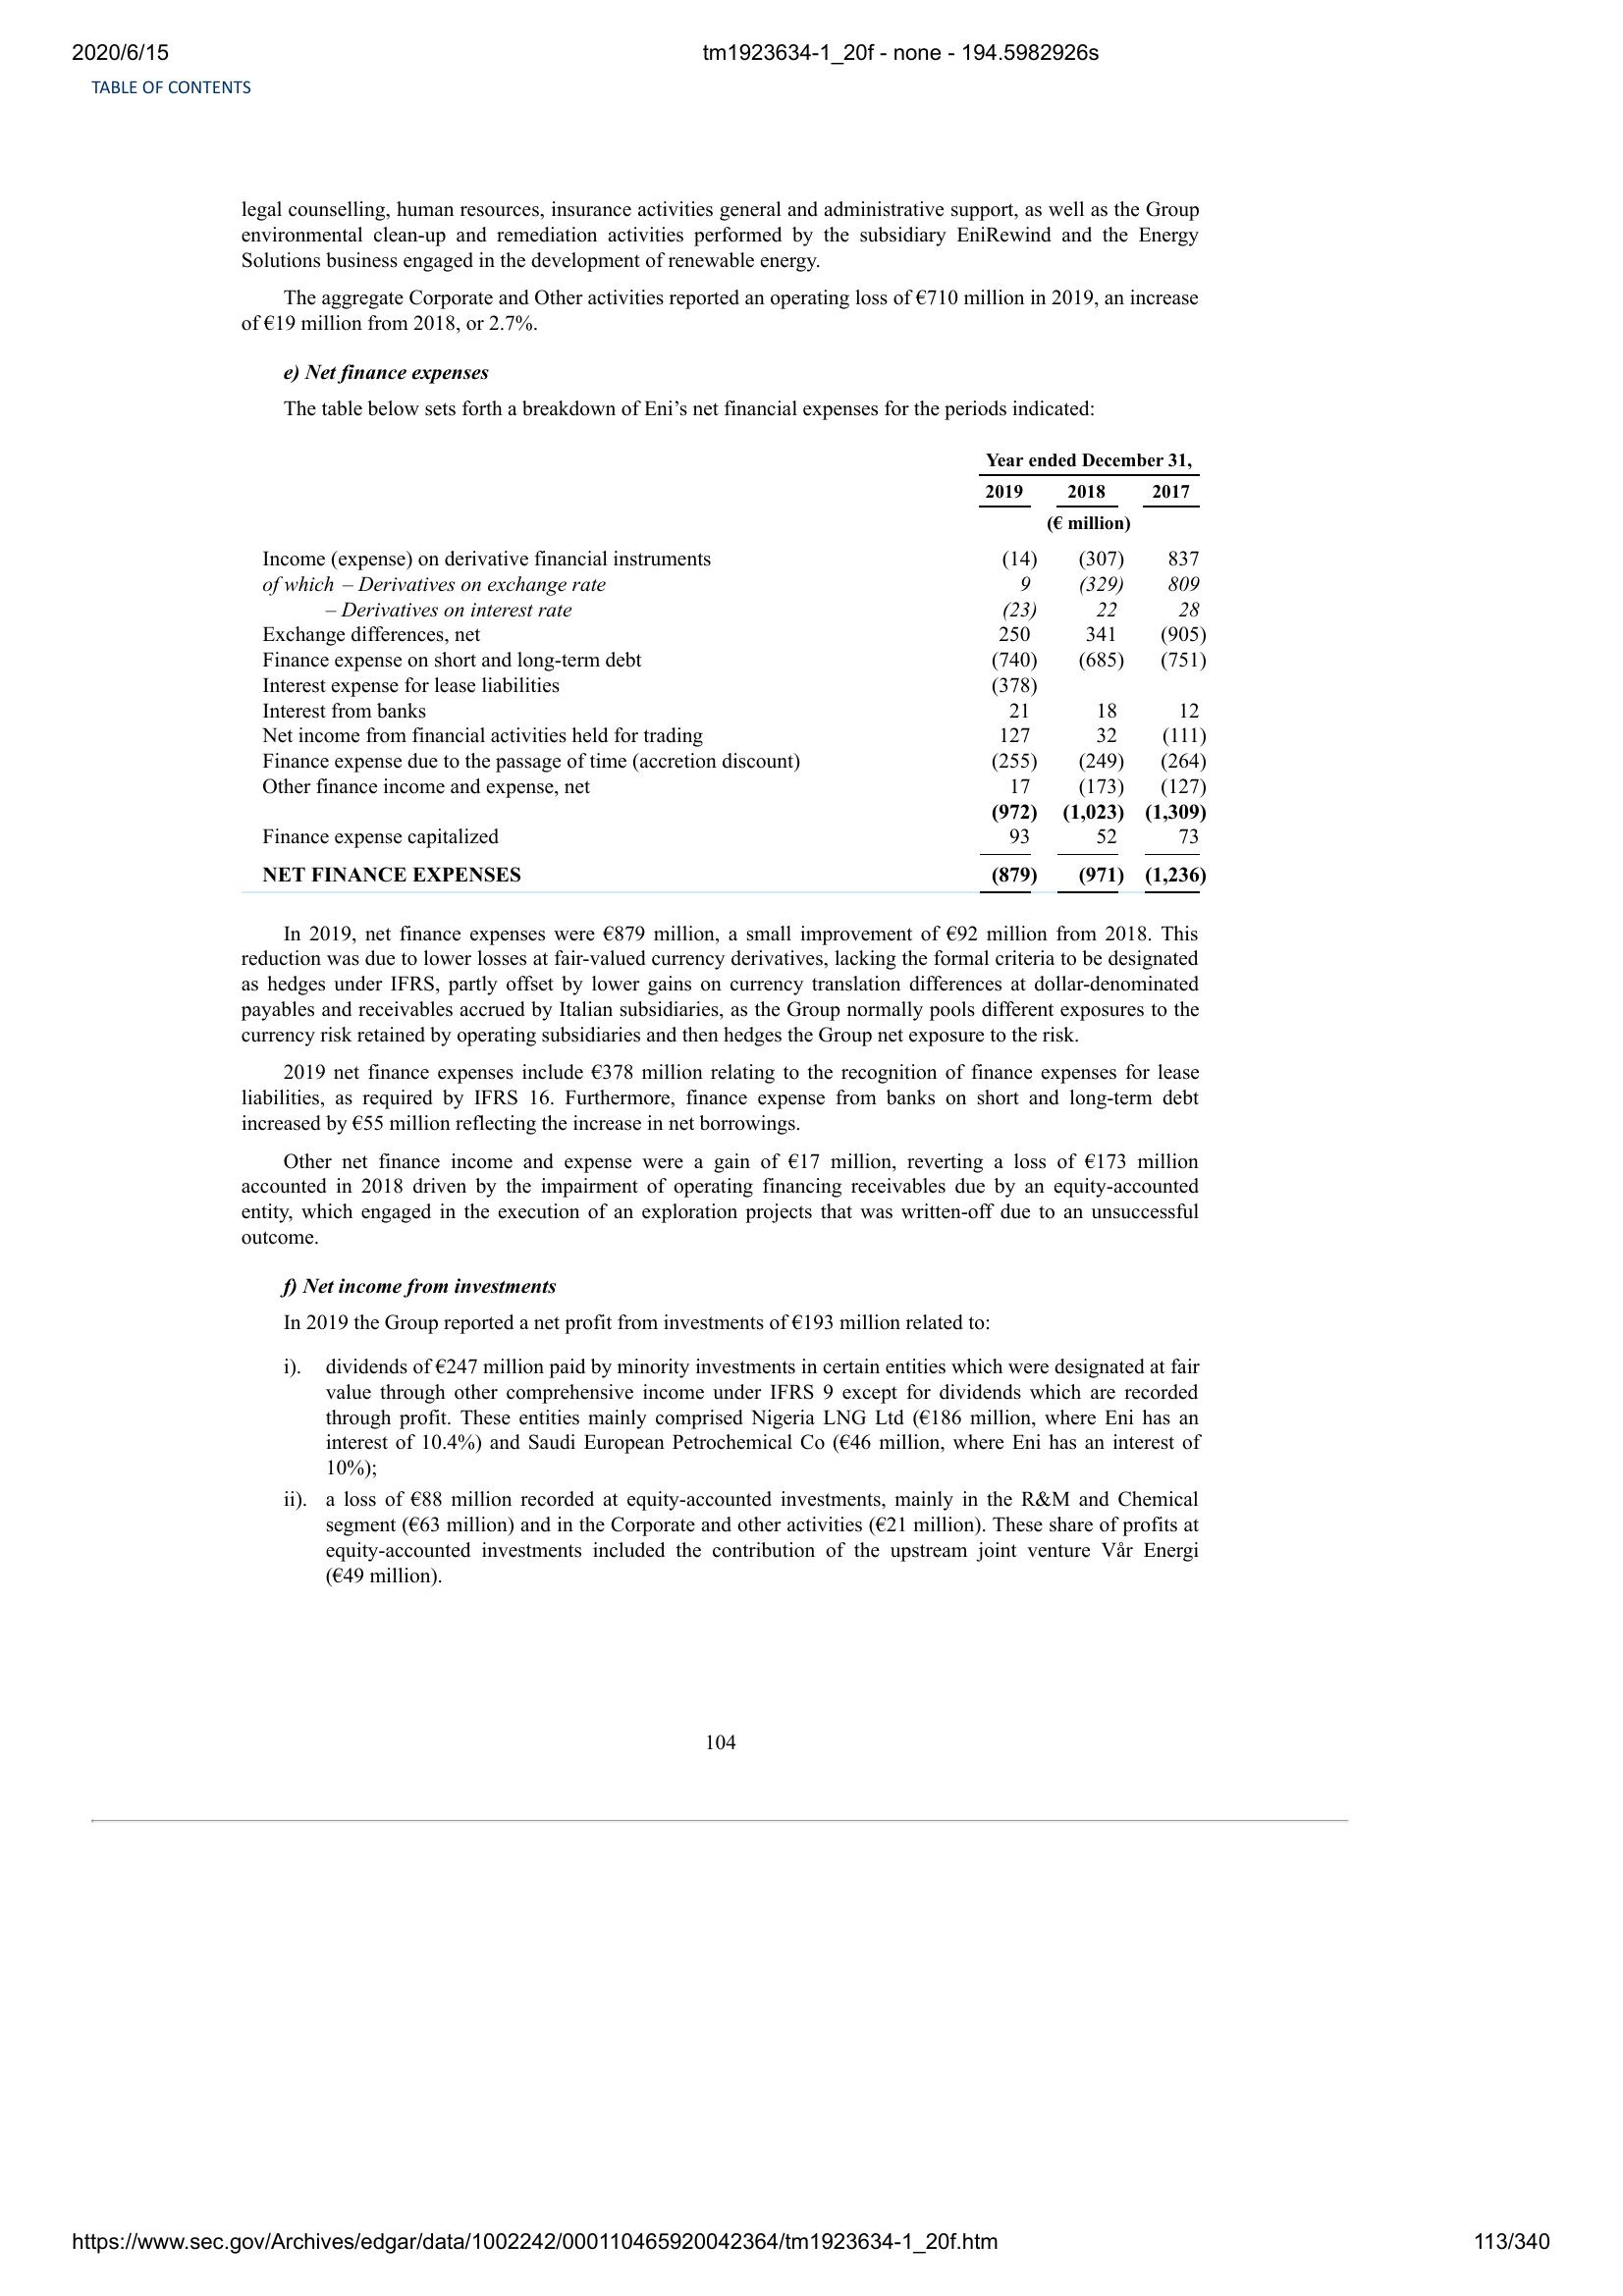table: (255, 448, 1208, 900)
